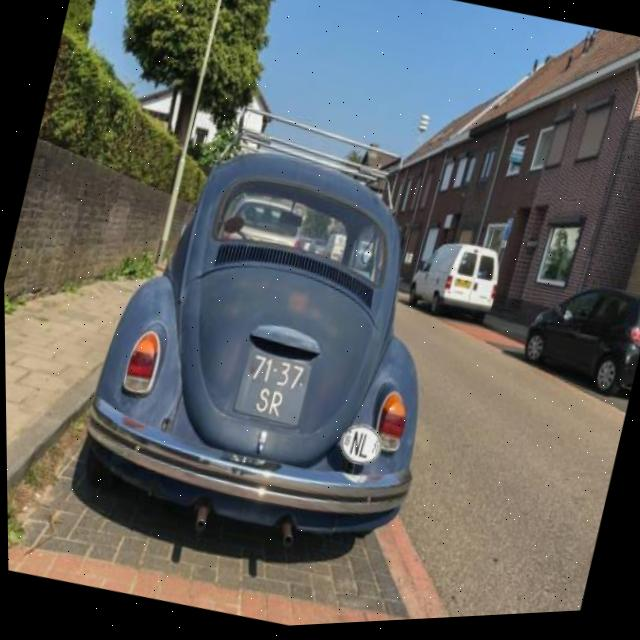vehicle: (77, 106, 486, 574), (506, 271, 640, 411), (409, 235, 501, 331)
